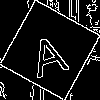A: (25, 25, 71, 79)
